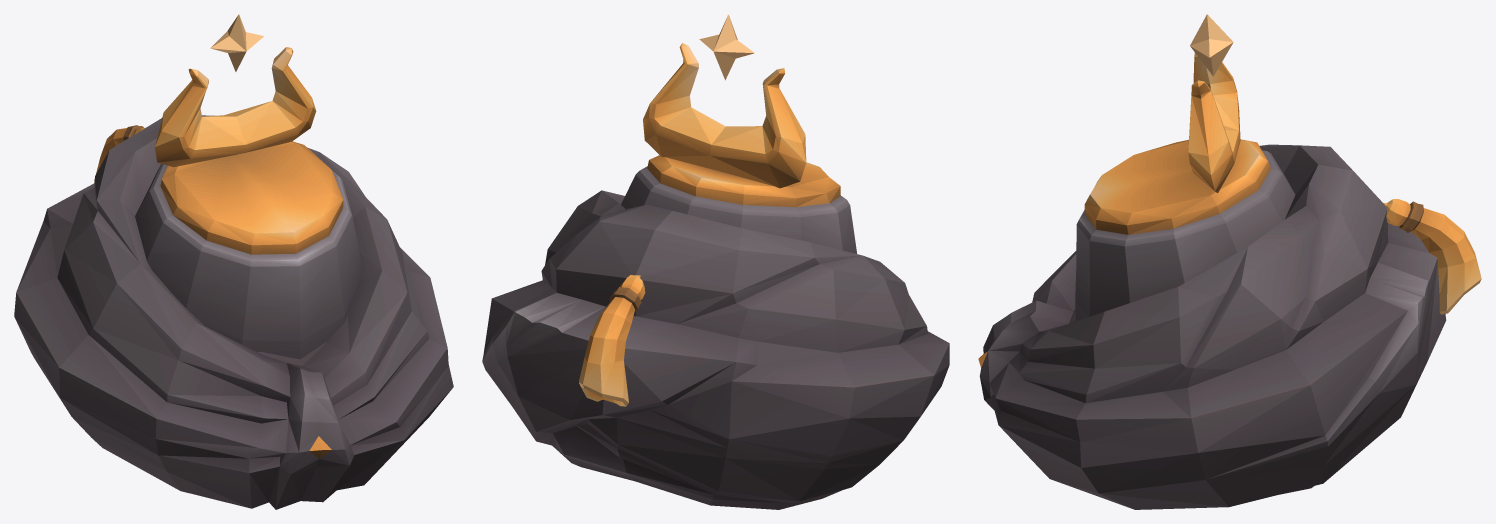
File: CharSkyKid_Hair_AP06Turban_01.glb
3 renders of one model, left to right at view 1: azimuth 30°, elevation 25°; view 2: azimuth 150°, elevation 25°; view 3: azimuth 270°, elevation 25°, orthographic. The views are drawn at different scales.
Visible parts, largest first — view 1: CharSkyKid_Hair_AP06Turban_01; view 2: CharSkyKid_Hair_AP06Turban_01; view 3: CharSkyKid_Hair_AP06Turban_01.
Boxes of the visible parts, left/top/right/bottom form: CharSkyKid_Hair_AP06Turban_01: left=14, top=14, right=453, bottom=509; CharSkyKid_Hair_AP06Turban_01: left=482, top=14, right=949, bottom=509; CharSkyKid_Hair_AP06Turban_01: left=978, top=14, right=1481, bottom=509.
Bounding box in the file's own units: 3.82 × 4.23 × 4.27.
1 material, 1 textured.
